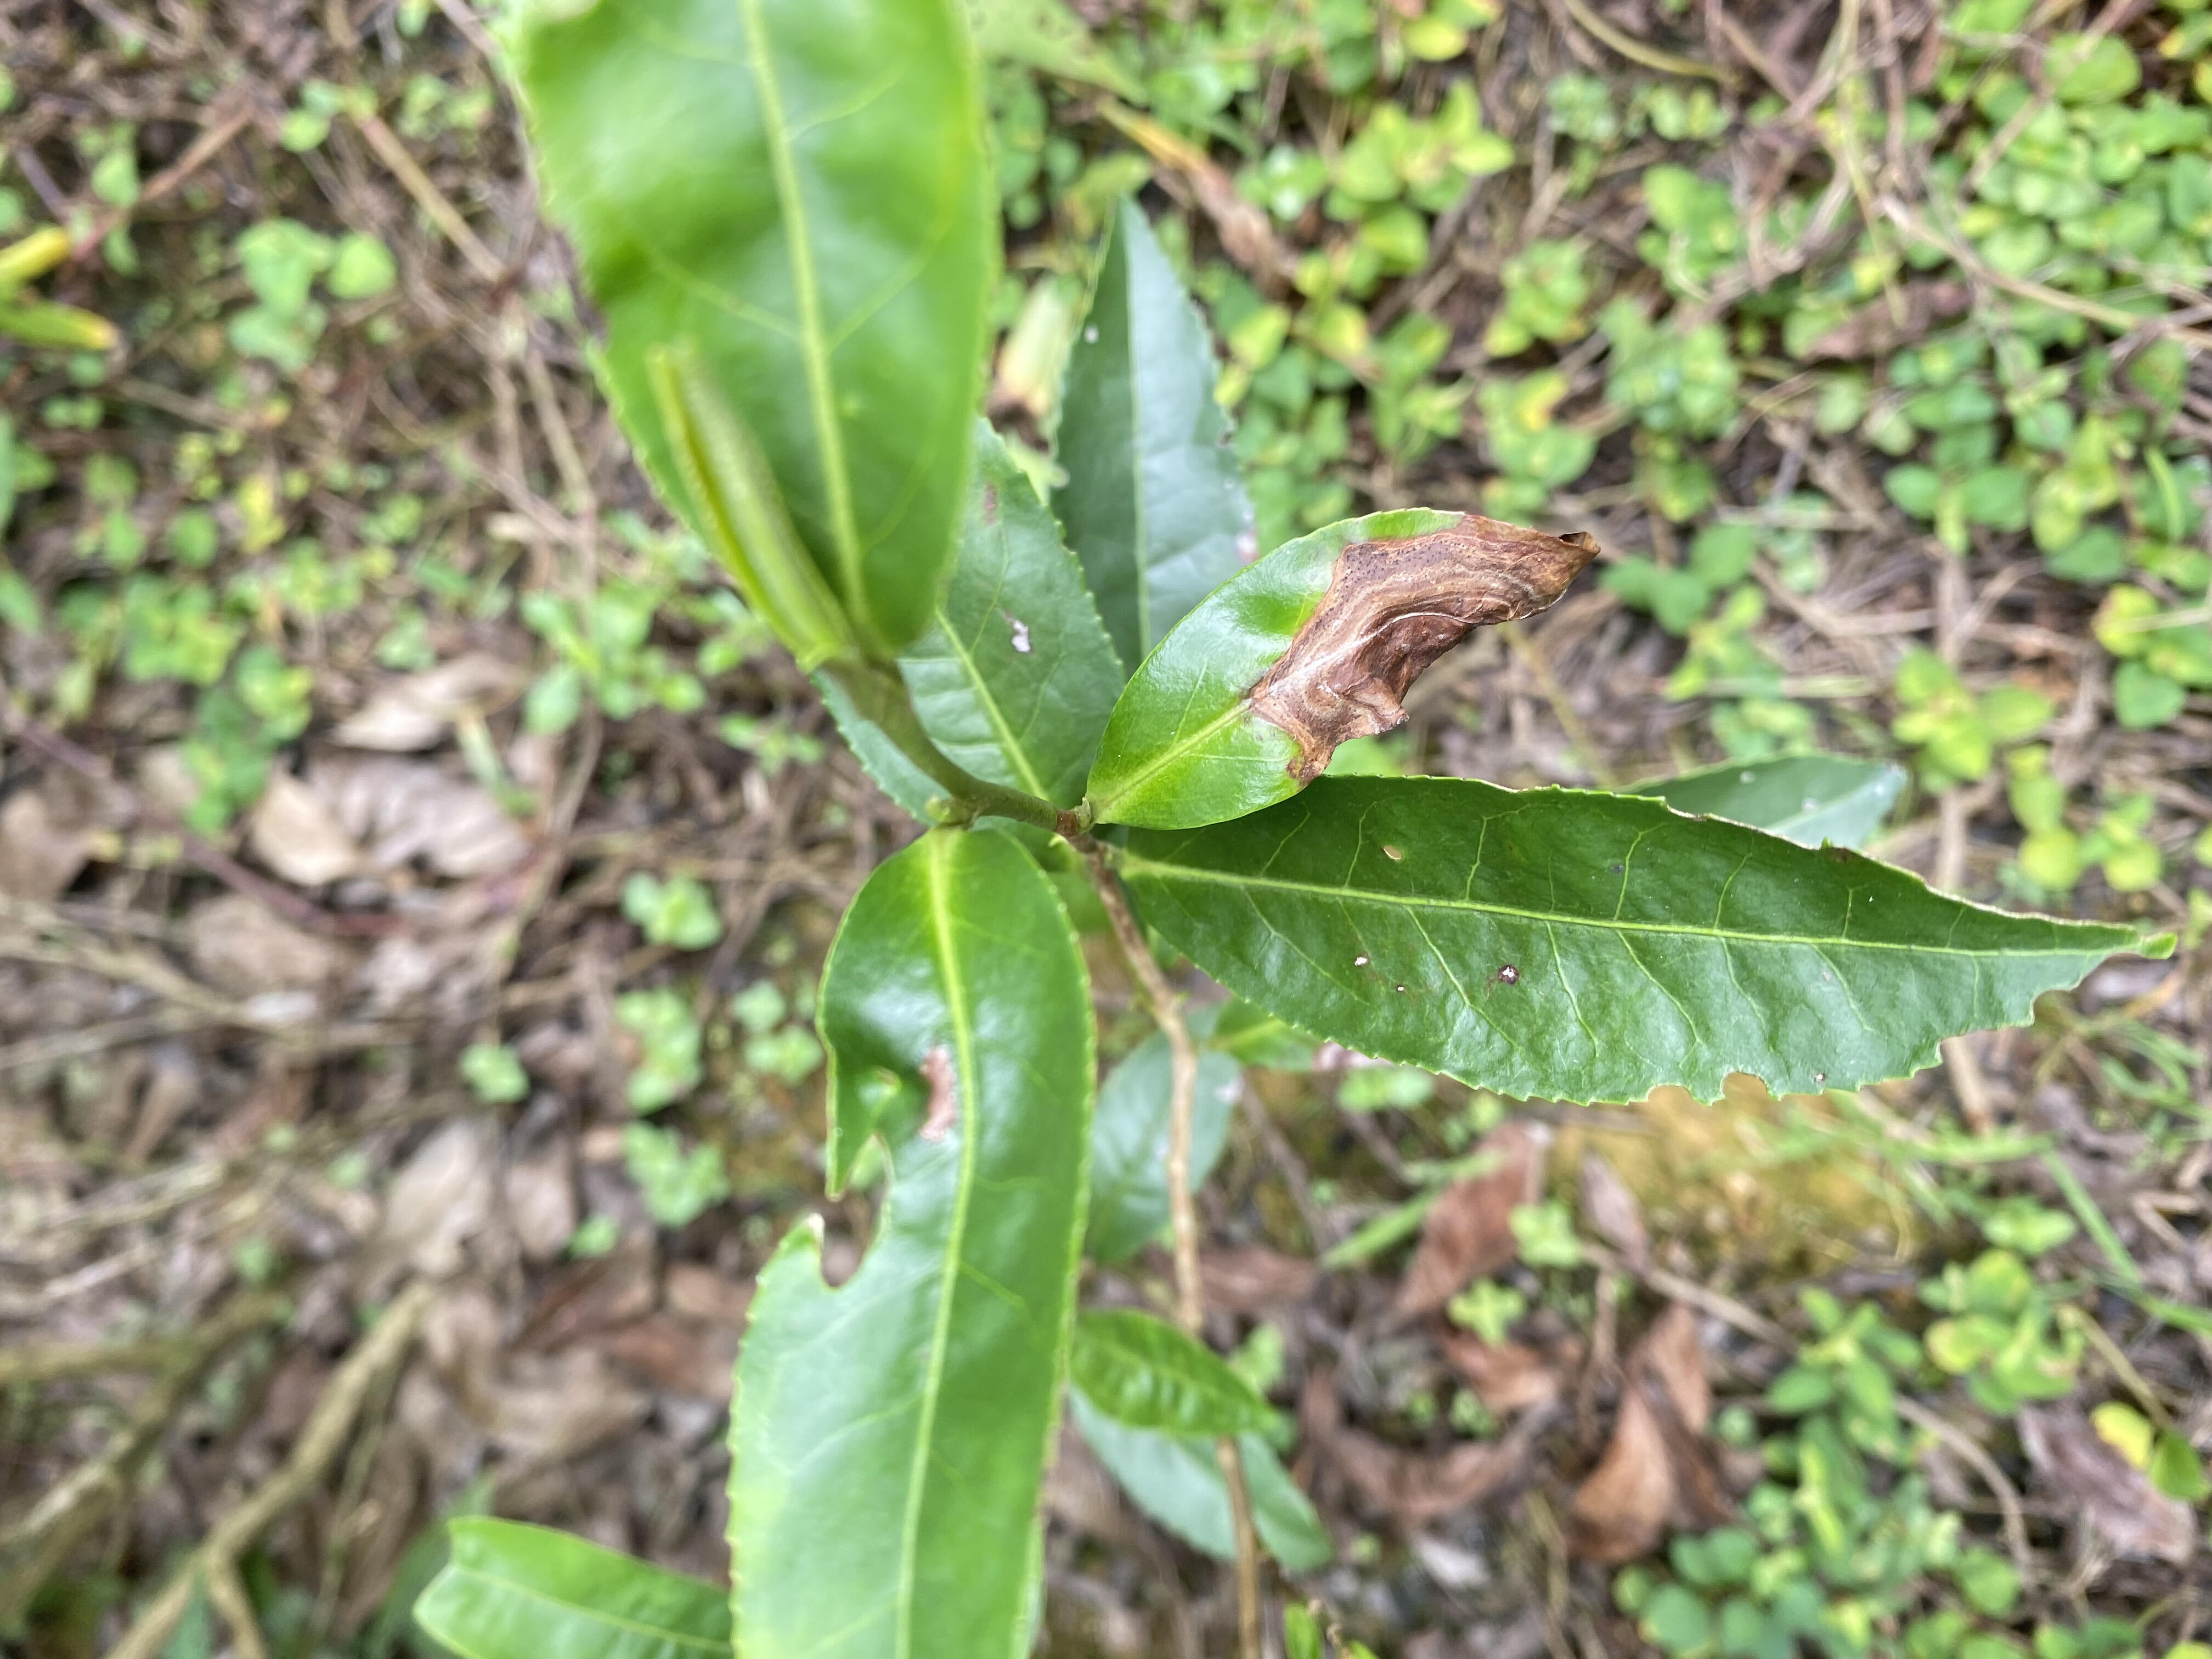tanju_high: (1080, 504, 1602, 833)
